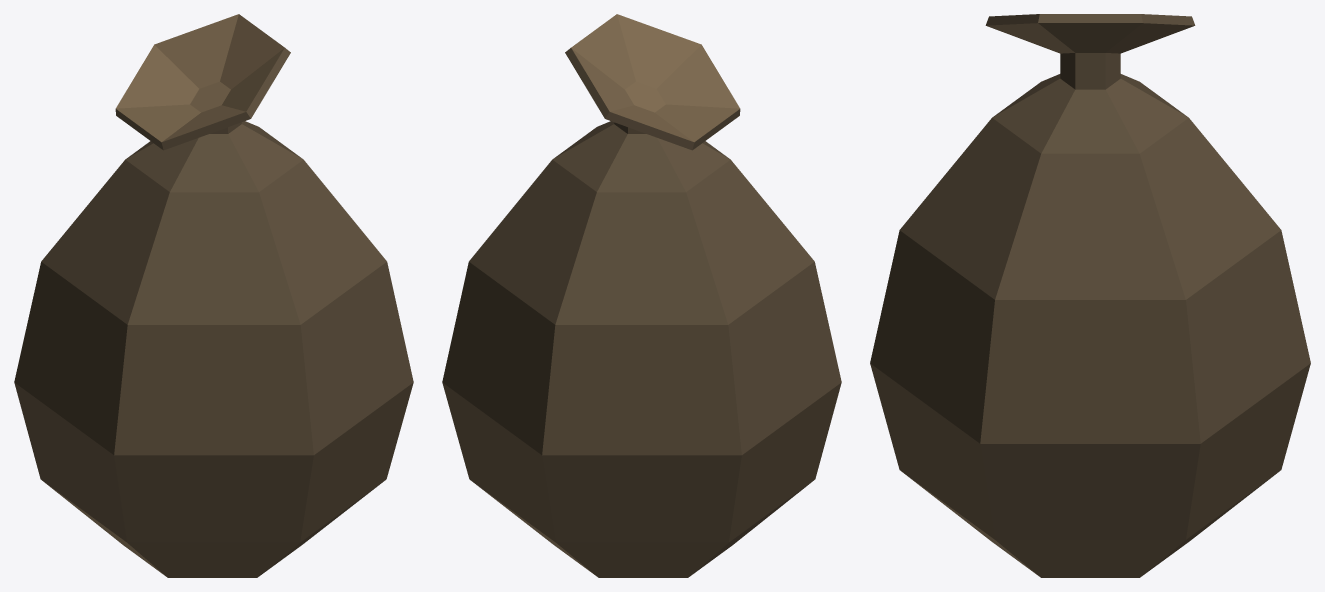
The model's file is Pouch_01.gltf.
3 renders of one model, left to right at view 1: azimuth 30°, elevation 25°; view 2: azimuth 150°, elevation 25°; view 3: azimuth 270°, elevation 25°, orthographic. The views are drawn at different scales.
Visible parts, largest first — view 1: pouch; view 2: pouch; view 3: pouch.
Part boxes in pixels (x1,y1,x2,y2): pouch: (14,14,413,577); pouch: (442,14,841,577); pouch: (870,14,1310,577).
Size of the model in its own units: 0.0381 by 0.0648 by 0.044.
Materials: 1 (1 with a texture image).
